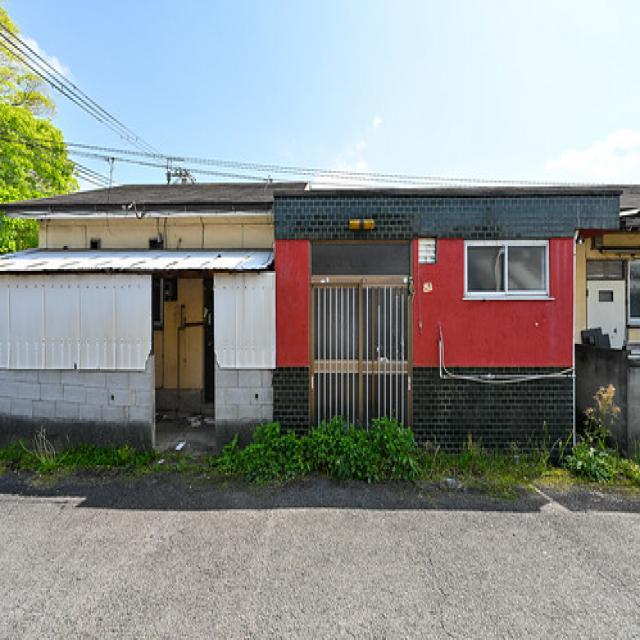Normal_building: (1, 174, 640, 474)
